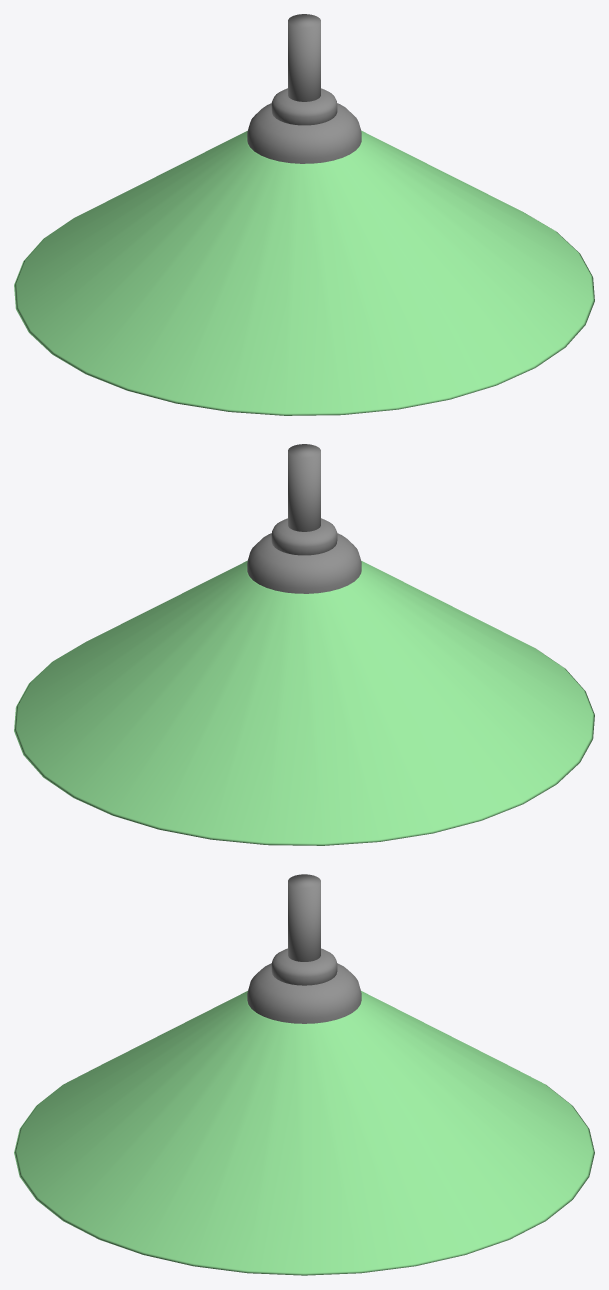
The model's file is lamp.fbx.
The picture shows the model from 3 angles, top to bottom: view 1: azimuth 30°, elevation 25°; view 2: azimuth 150°, elevation 25°; view 3: azimuth 270°, elevation 25°; orthographic projection.
Parts seen in each view (by area): view 1: shade, holder2, Lamp, holder1; view 2: shade, holder2, Lamp, holder1; view 3: shade, holder2, Lamp, holder1.
Part boxes in pixels (<box>): shade: <box>14,130,594,415</box>; holder2: <box>247,103,361,163</box>; Lamp: <box>288,14,320,101</box>; holder1: <box>271,88,337,125</box>; shade: <box>14,560,594,845</box>; holder2: <box>247,533,361,593</box>; Lamp: <box>288,444,320,531</box>; holder1: <box>271,518,337,555</box>; shade: <box>14,991,594,1275</box>; holder2: <box>247,963,361,1023</box>; Lamp: <box>288,874,320,961</box>; holder1: <box>271,948,337,985</box>.
Bounding box in the file's own units: 507 × 277 × 507.
